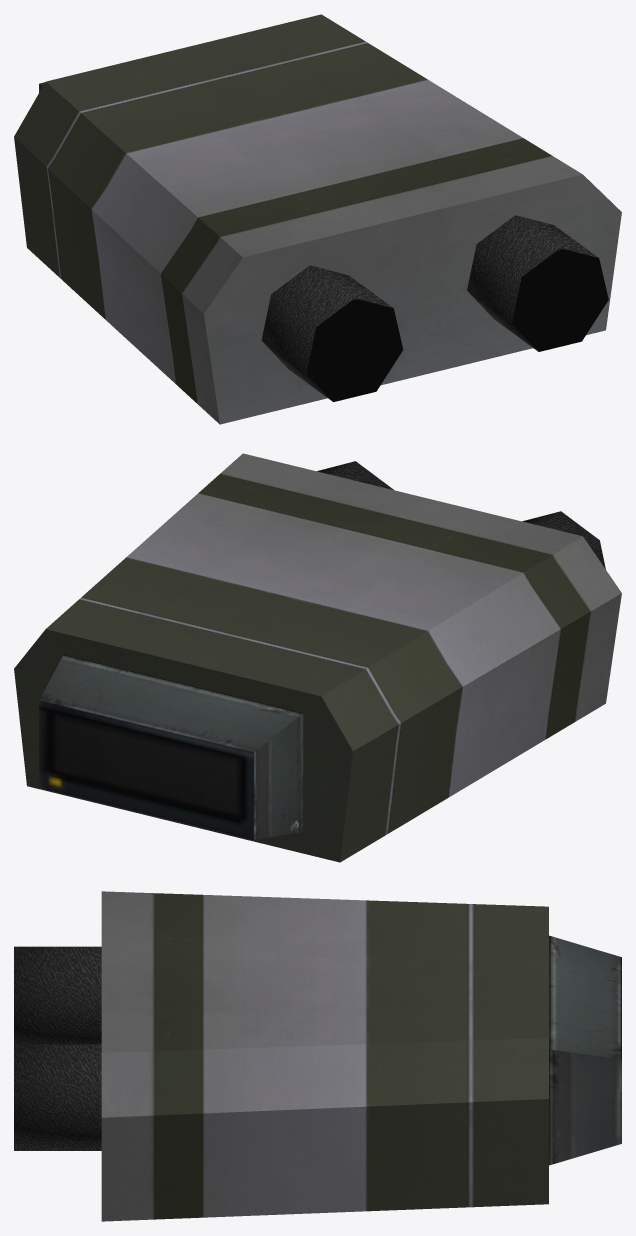
File: Binoculars_01.fbx
3 views of the same model, one above another, from view 1: azimuth 30°, elevation 25°; view 2: azimuth 150°, elevation 25°; view 3: azimuth 270°, elevation 25° (orthographic). The views are drawn at different scales.
Visible parts, largest first — view 1: Binoculars_01; view 2: Binoculars_01; view 3: Binoculars_01.
Part boxes in pixels (x1=…): Binoculars_01: x1=14, y1=14, x2=621, y2=424; Binoculars_01: x1=14, y1=453, x2=621, y2=862; Binoculars_01: x1=14, y1=891, x2=621, y2=1221.
Size of the model in its own units: 41.08 by 15.18 by 53.08.
